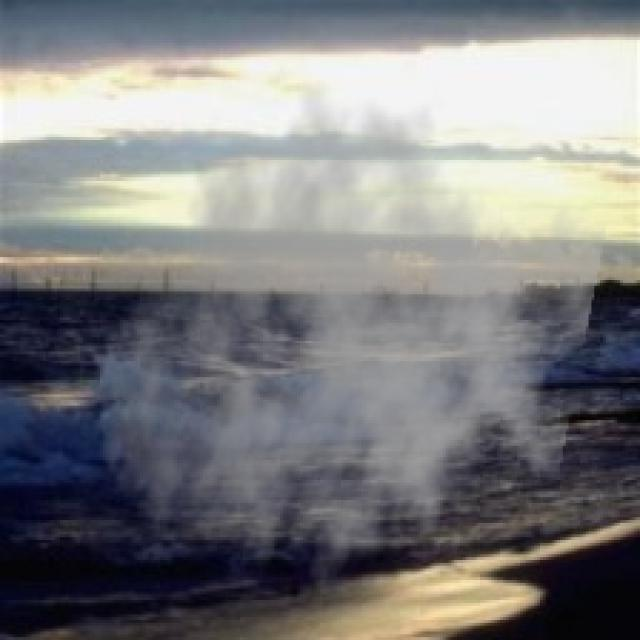Smoke: (94, 80, 609, 617)
